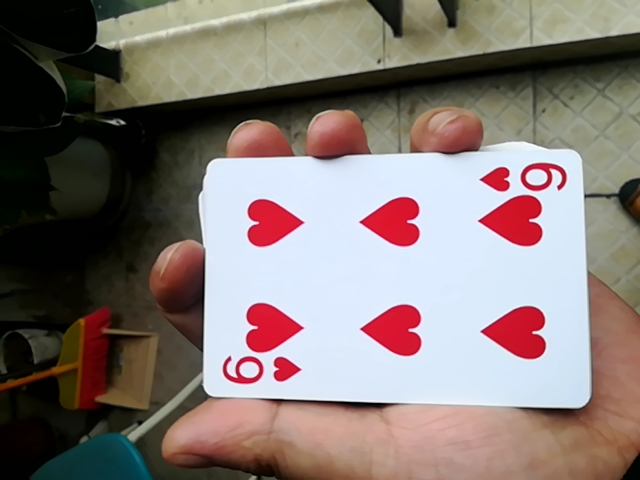hx 6: (181, 148, 587, 416)
